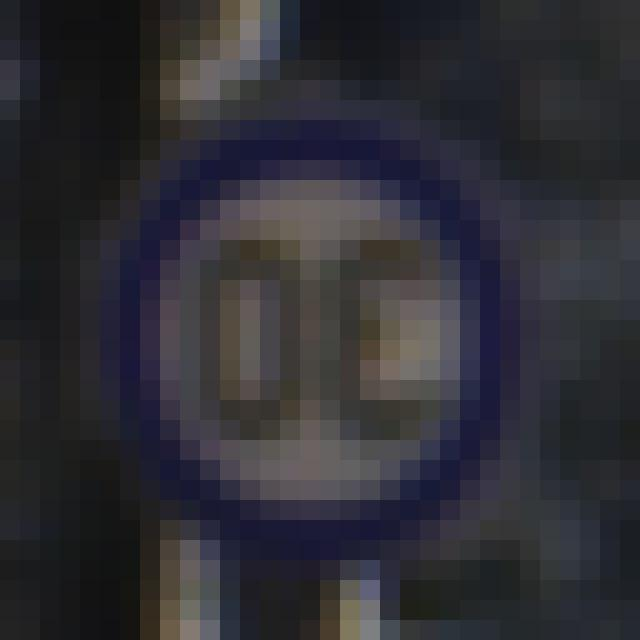SPEED LIMIT 30: (88, 156, 500, 550)
